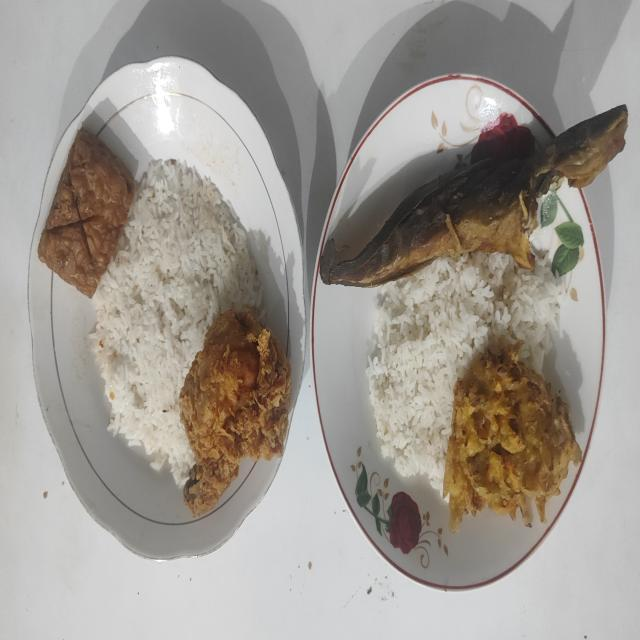nasi_putih: (90, 160, 262, 487), (366, 252, 564, 490)
tempe_goreng: (38, 128, 135, 298)
